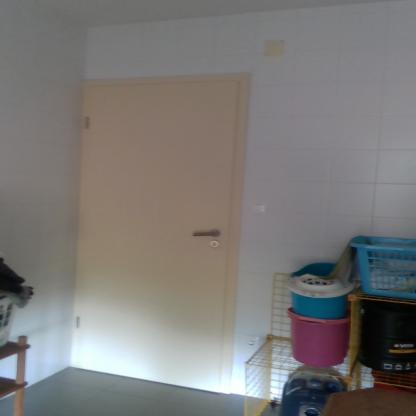door: (78, 84, 228, 388)
hinged: (84, 115, 92, 130), (74, 315, 80, 330)
lever: (190, 230, 220, 238)
